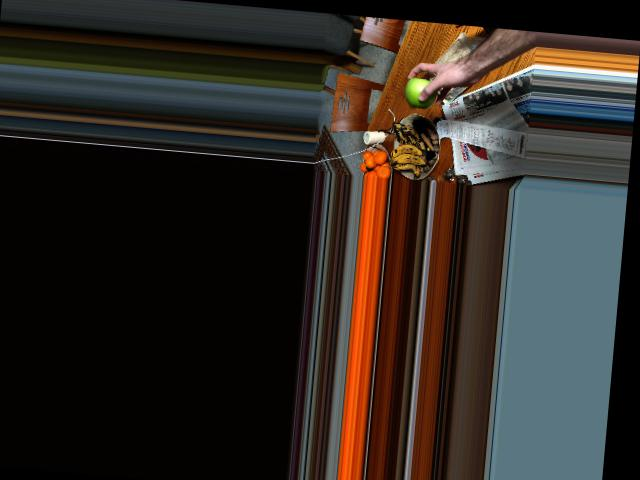apple: (404, 76, 438, 110)
